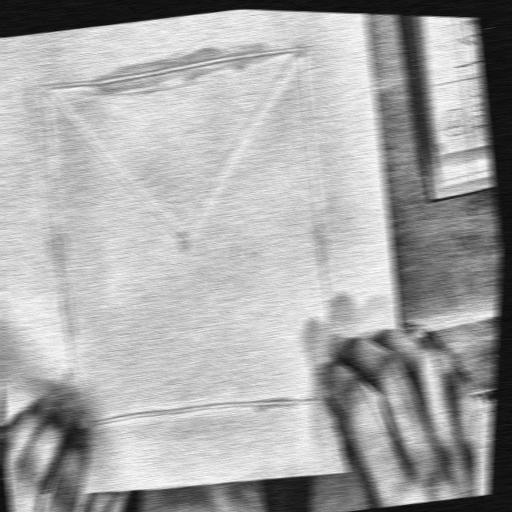bottom_left: (9, 489, 21, 502)
bottom_right: (406, 450, 420, 467)
envelop: (32, 38, 348, 436)
